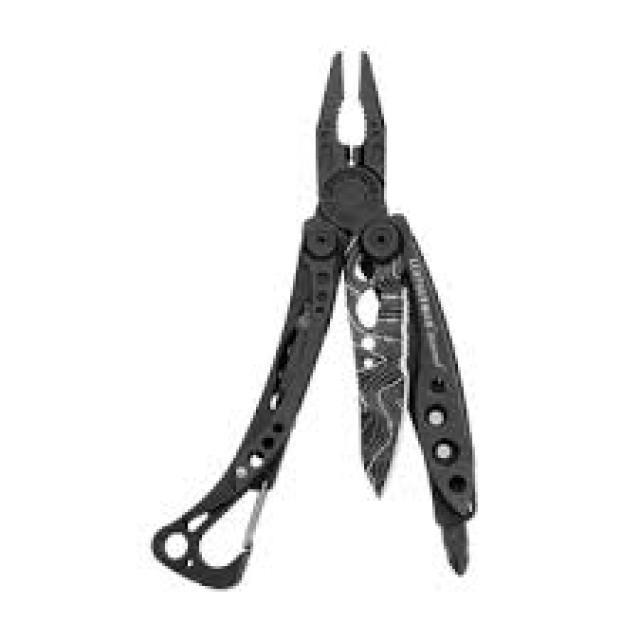pliers: (246, 38, 472, 472)
